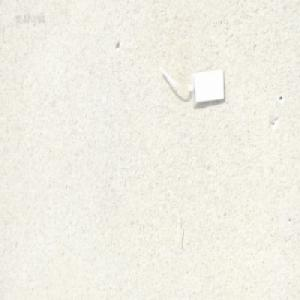LuggageTag: (155, 66, 227, 108)
